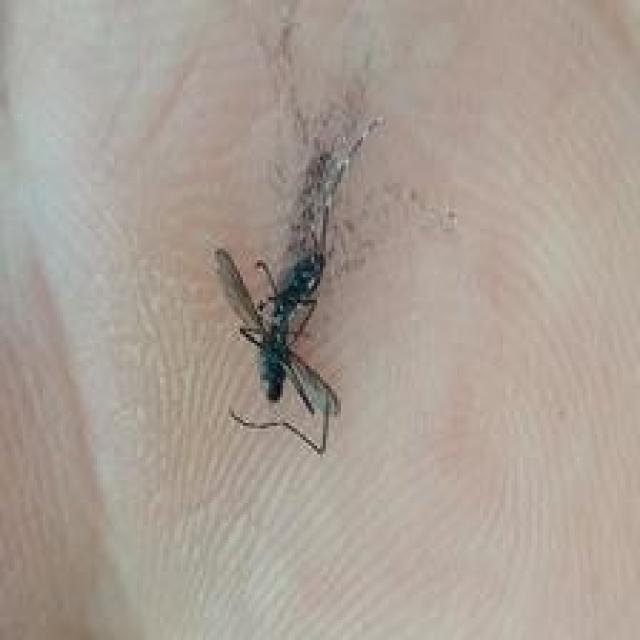Aedes albopictus: (211, 109, 386, 457)
